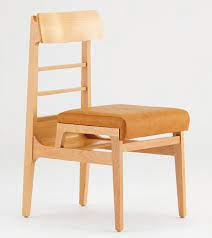chair: (16, 8, 195, 232)
